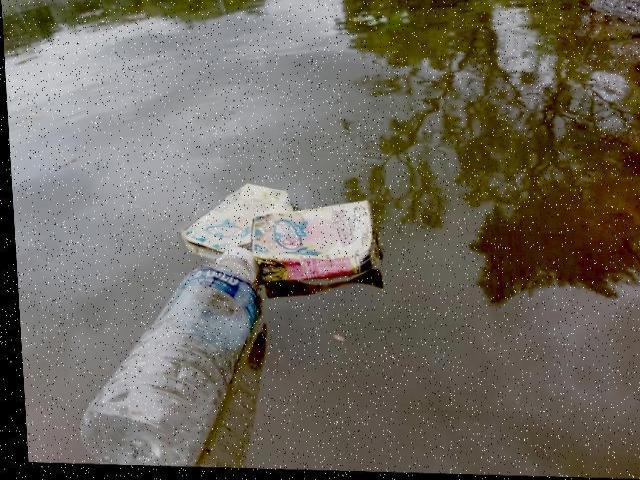Bottle: (78, 251, 268, 468)
Box: (246, 197, 381, 287), (179, 184, 303, 268)
